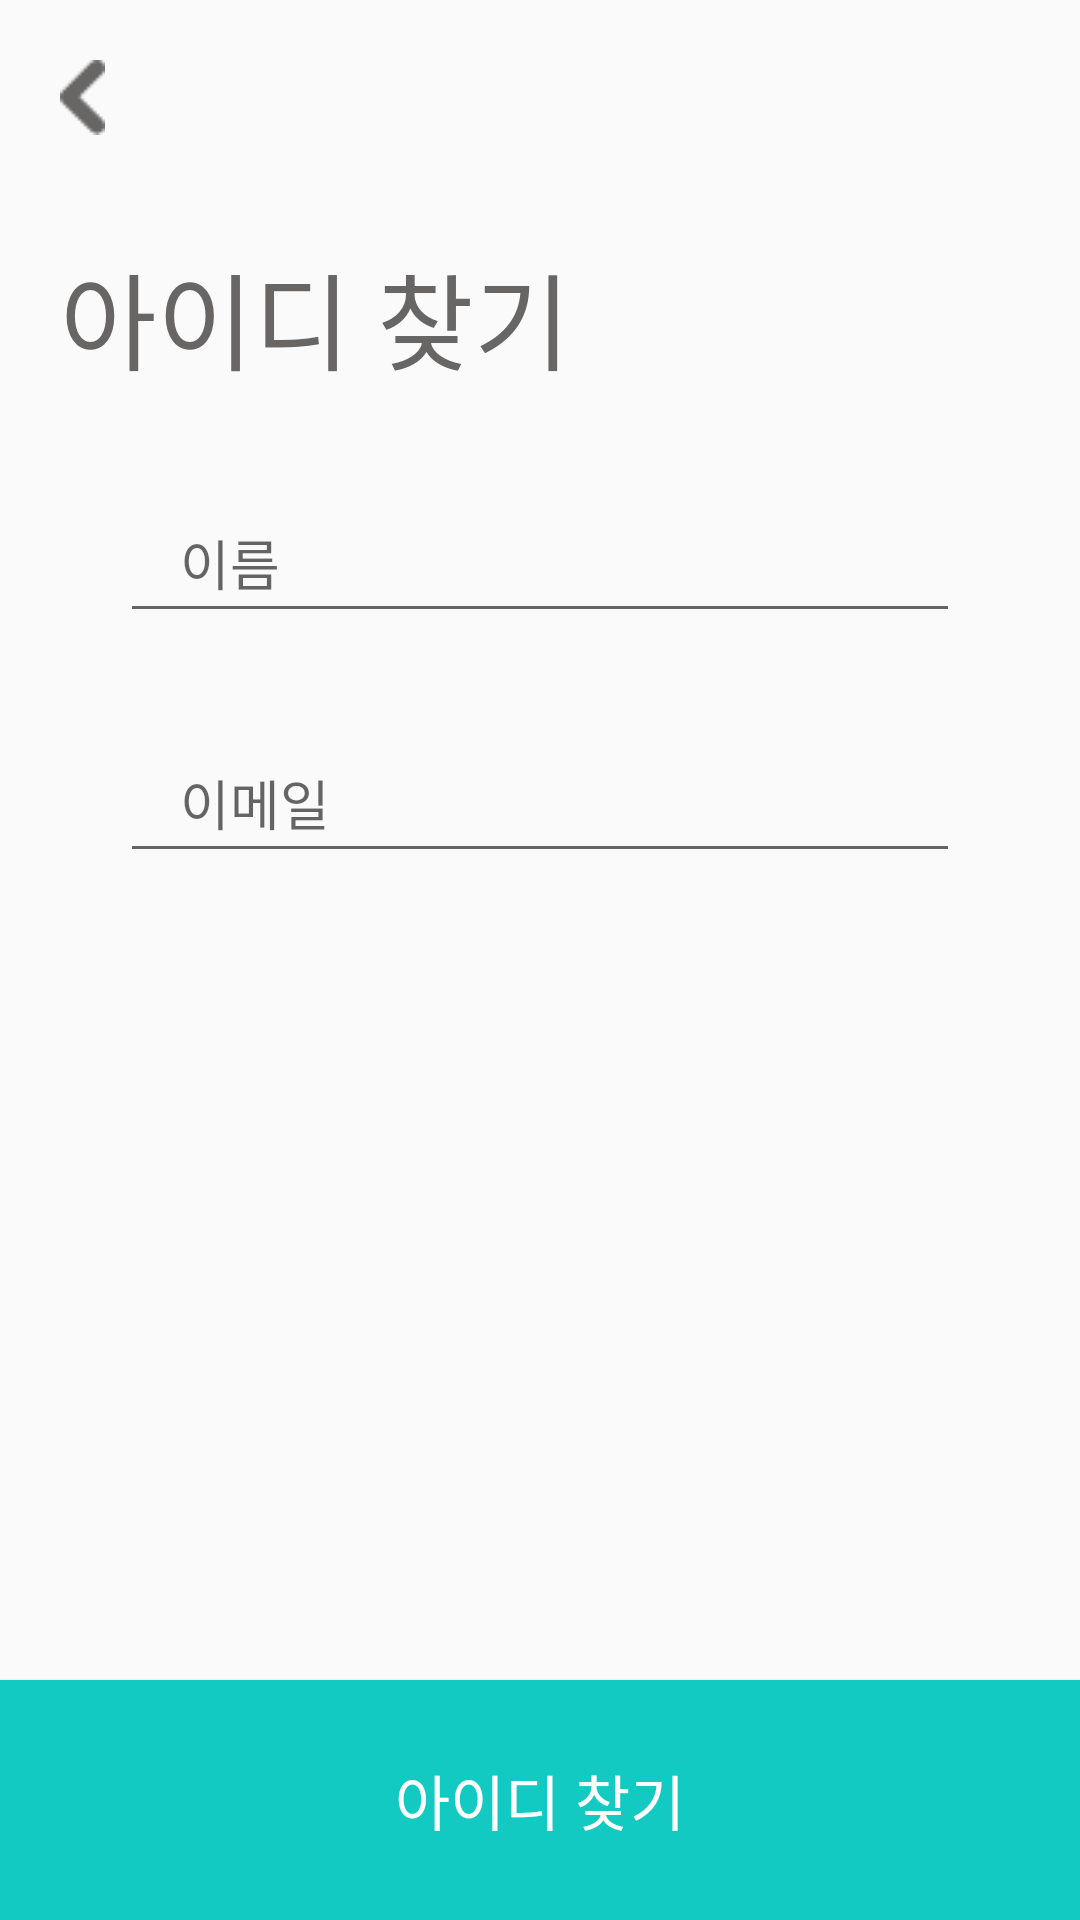

Where to tap for icons on this 1080 × 1920 app screen, as [x,y]:
back: [82,97]
